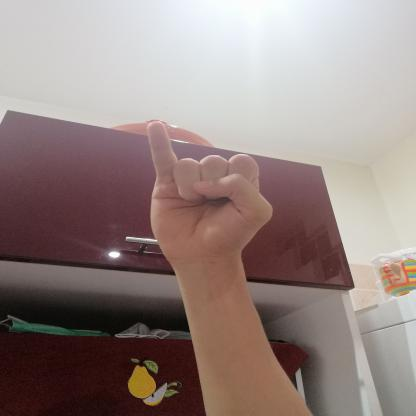MEEM: (128, 111, 286, 272)
